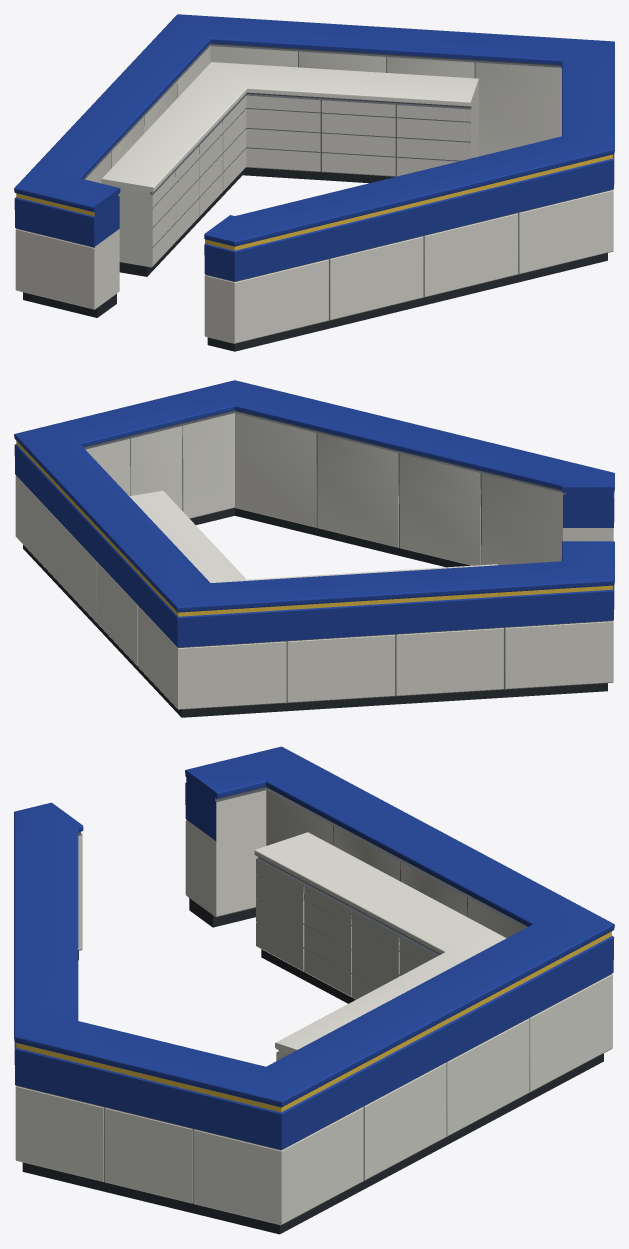
The model's file is checkout-counter-shield-laminate-2010.glb.
3 renders of one model, top to bottom at view 1: azimuth 30°, elevation 25°; view 2: azimuth 150°, elevation 25°; view 3: azimuth 270°, elevation 25°, orthographic. The views are drawn at different scales.
Visible parts, largest first — view 1: shield-surround-0.002, shield-work-cabinet.002; view 2: shield-surround-0.002, shield-work-cabinet.002; view 3: shield-surround-0.002, shield-work-cabinet.002.
Boxes of the visible parts, bbox=[...] form: shield-surround-0.002: bbox=[14, 14, 614, 351]; shield-work-cabinet.002: bbox=[101, 62, 478, 276]; shield-surround-0.002: bbox=[14, 380, 614, 717]; shield-work-cabinet.002: bbox=[129, 490, 497, 582]; shield-surround-0.002: bbox=[14, 746, 614, 1234]; shield-work-cabinet.002: bbox=[254, 832, 506, 1060].
Bounding box in the file's own units: 19.6 × 3.54 × 14.
